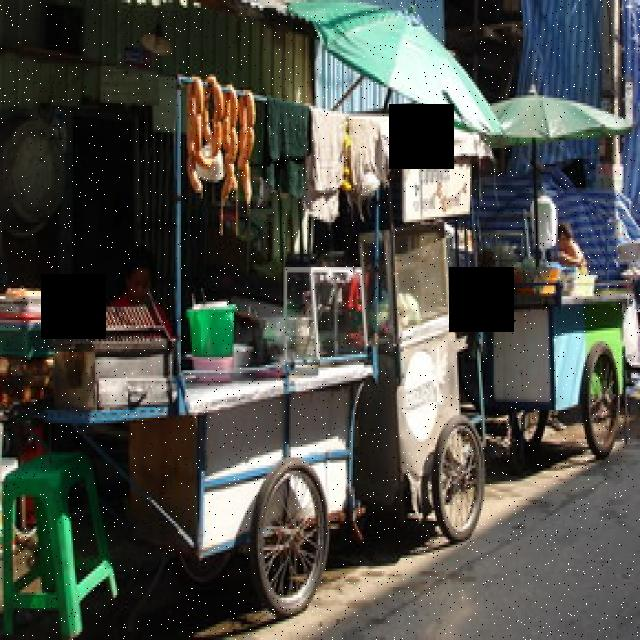food-booth: (0, 79, 380, 619), (353, 119, 488, 545), (481, 95, 633, 468)
